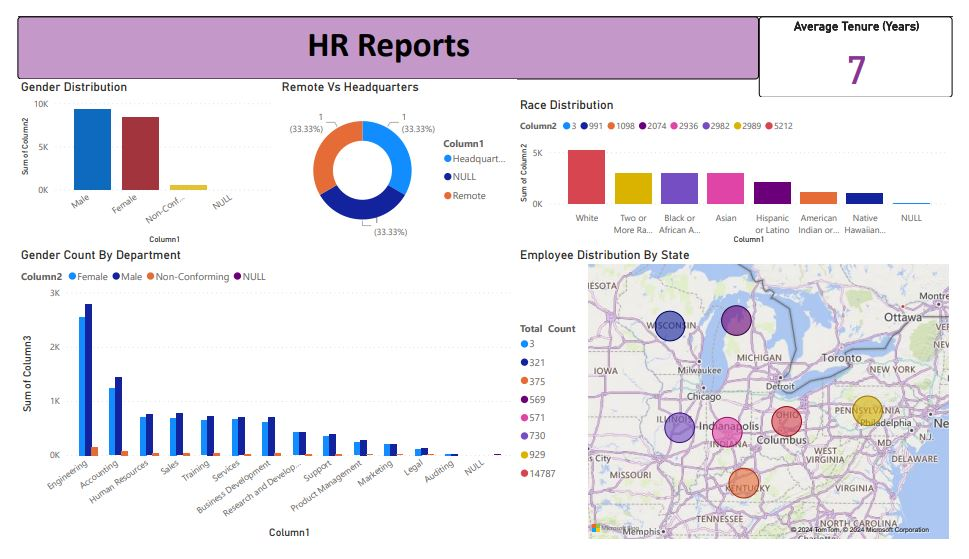

The dashboard page shown, as its layout file describes it:
{"tool":"powerbi","page":{"name":"Homepage","canvas":[1280,720],"ordinal":0},"visuals":[{"type":"textbox","box":[0,0,1015.2,86.4],"z":0},{"type":"card","title":"Average Tenure (Years)","fields":{"Values":["Sum(Average Tenure.Column1)"]},"box":[1015.2,0,265,110.9],"z":1000},{"type":"columnChart","title":"Gender Distribution","fields":{"Category":["Gender.Column1"],"Y":["Sum(Gender.Column2)"]},"box":[0,86.4,357.3,230],"z":2000},{"type":"clusteredColumnChart","title":"Gender Count By Department","fields":{"Series":["Gender - Department.Column2"],"Y":["Sum(Gender - Department.Column3)"],"Category":["Gender - Department.Column1"]},"box":[0,315.7,682.9,404.3],"z":3000},{"type":"donutChart","title":"Remote Vs Headquarters","fields":{"Category":["Remote vs Headquaters.Column1"],"Y":["CountNonNull(Remote vs Headquaters.Column2)"]},"box":[357.3,86.4,325.5,230],"z":4000},{"type":"map","title":"Employee Distribution By State","fields":{"Category":["State Distribution.Column1"],"Series":["State Distribution.Column2"]},"box":[682.9,315.7,597.1,404.3],"z":5000},{"type":"columnChart","title":"Race Distribution","fields":{"Category":["Race Distribution.Column1"],"Series":["Race Distribution.Column2"],"Y":["Sum(Race Distribution.Column2)"]},"box":[682.9,111.4,597.1,204.3],"z":6000}]}

Visuals, with their boxes in screenshot pixels (x1, y1, x2, y2), scaled from the page's 1280x720 canvas onto the 969x559 screenshot:
textbox: locate(0, 0, 769, 67)
"Average Tenure (Years)" card: locate(769, 0, 968, 86)
"Gender Distribution" columnChart: locate(0, 67, 270, 246)
"Gender Count By Department" clusteredColumnChart: locate(0, 245, 517, 558)
"Remote Vs Headquarters" donutChart: locate(270, 67, 517, 246)
"Employee Distribution By State" map: locate(517, 245, 968, 558)
"Race Distribution" columnChart: locate(517, 86, 968, 245)
